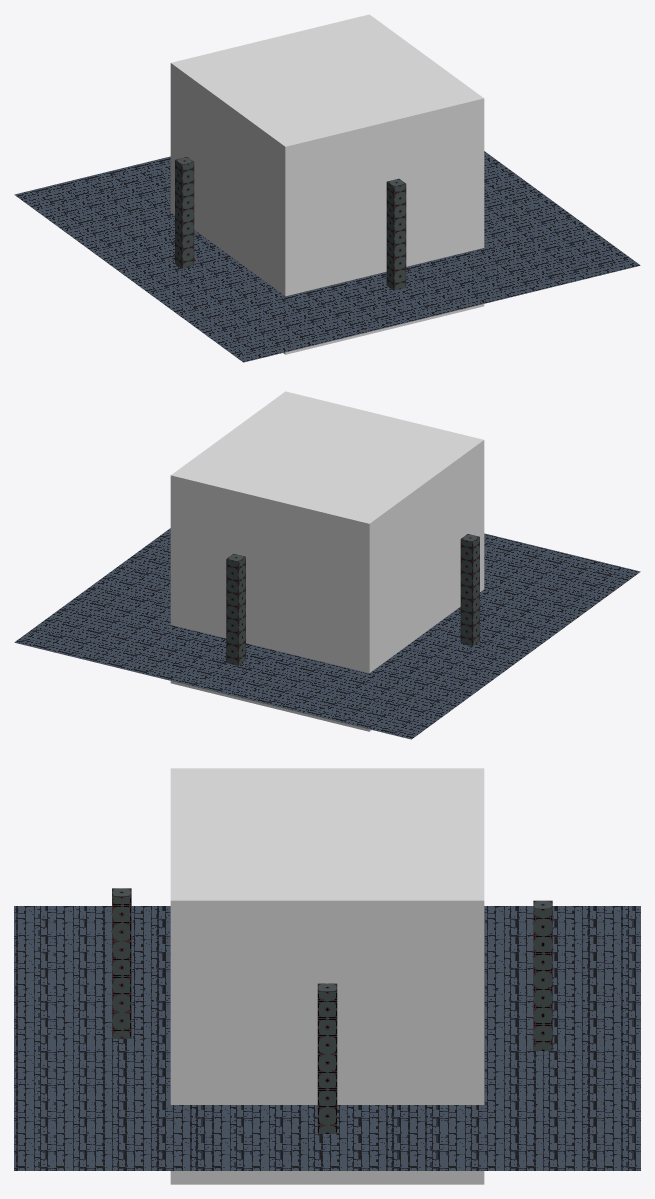
The model's file is cubeLighting.glb.
The picture shows the model from 3 angles, top to bottom: view 1: azimuth 30°, elevation 25°; view 2: azimuth 150°, elevation 25°; view 3: azimuth 270°, elevation 25°; orthographic projection. The views are drawn at different scales.
Parts seen in each view (by area): view 1: CubeLightVolume, Plane, Cube.007, Cube.014; view 2: CubeLightVolume, Plane, Cube.014, Cube.004; view 3: CubeLightVolume, Plane, Cube.006, Cube.004, Cube.007.
Boxes of the visible parts, bbox=[...] form: CubeLightVolume: bbox=[170, 14, 484, 354]; Plane: bbox=[14, 151, 640, 362]; Cube.007: bbox=[386, 178, 406, 290]; Cube.014: bbox=[175, 157, 194, 268]; CubeLightVolume: bbox=[170, 391, 484, 731]; Plane: bbox=[14, 528, 640, 739]; Cube.014: bbox=[460, 534, 479, 645]; Cube.004: bbox=[226, 553, 245, 665]; CubeLightVolume: bbox=[170, 768, 484, 1184]; Plane: bbox=[14, 906, 640, 1170]; Cube.006: bbox=[317, 983, 337, 1133]; Cube.004: bbox=[533, 900, 552, 1050]; Cube.007: bbox=[112, 888, 131, 1038].
Size of the model in its own units: 16 by 8 by 16.
Materials: 2 (2 with a texture image).
